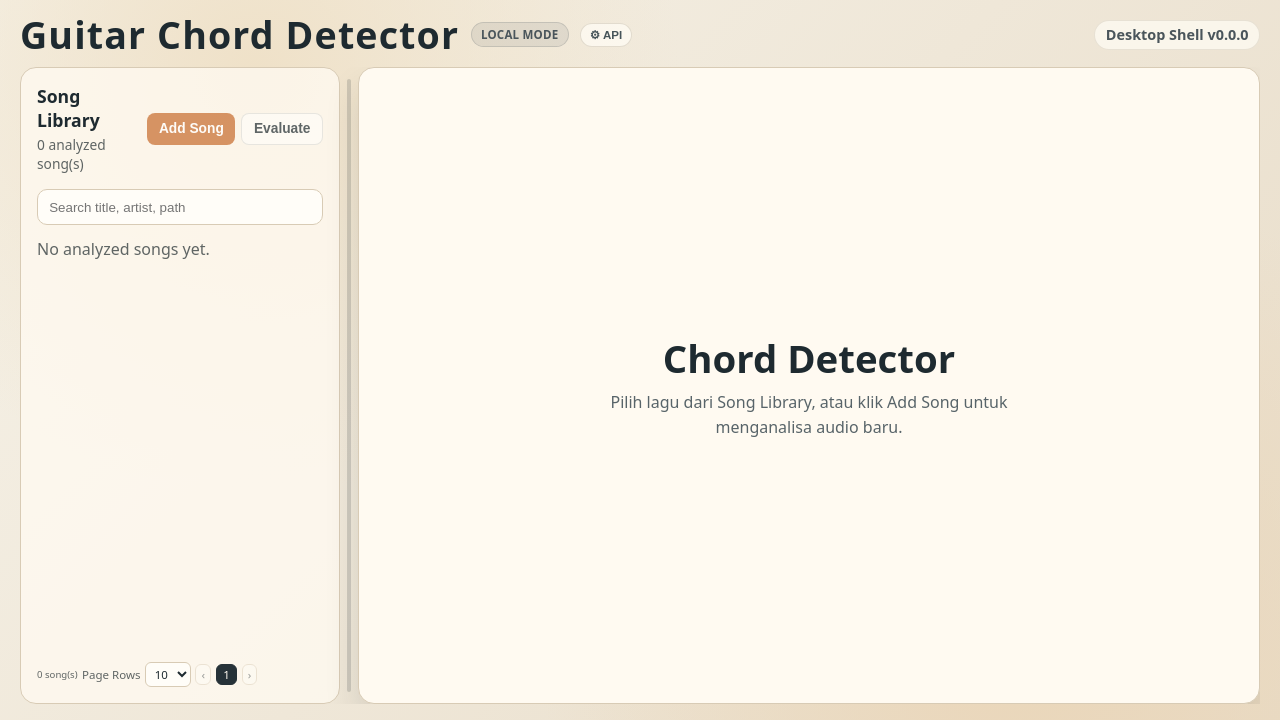
Scenario: App › shows selected filename after bridge returns selection
Click the button "Add Song" at (191, 129), box [147,113,235,145]
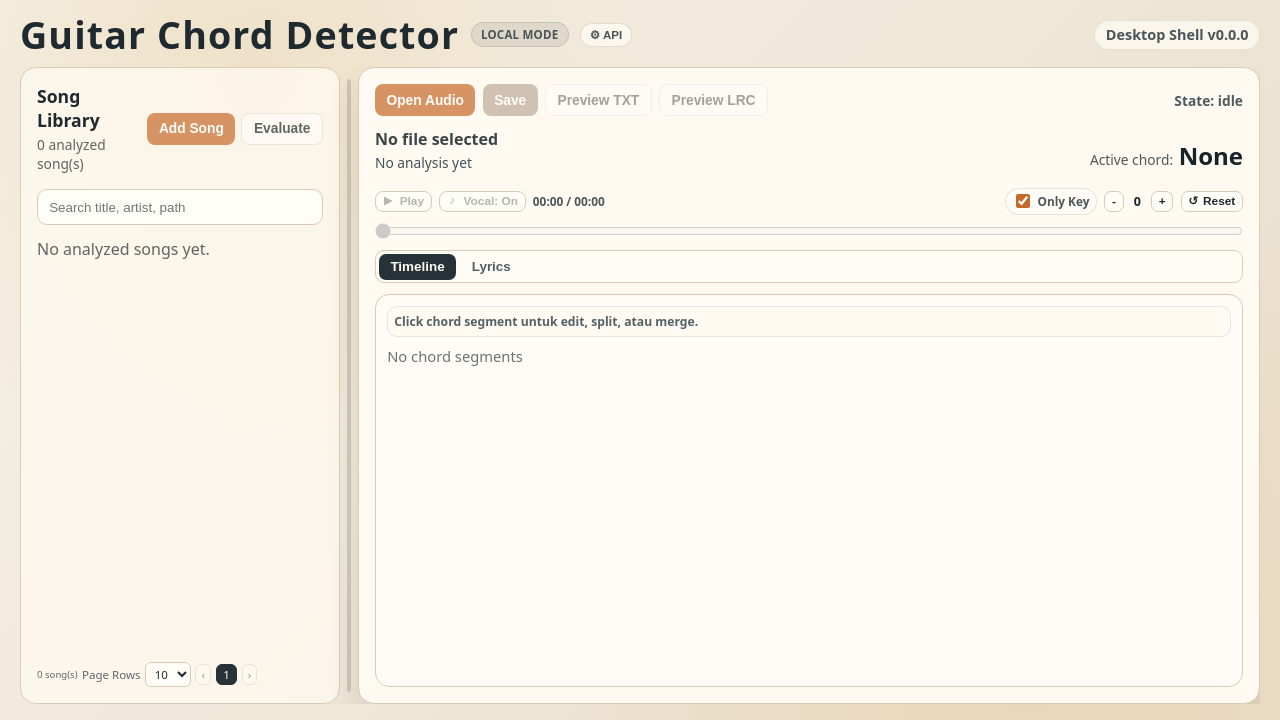
Expected: the field with placeholder "Contoh: SR Banyak Cerita" is not shown
Click the button "Open Audio" at (425, 100), box [375,84,475,116]
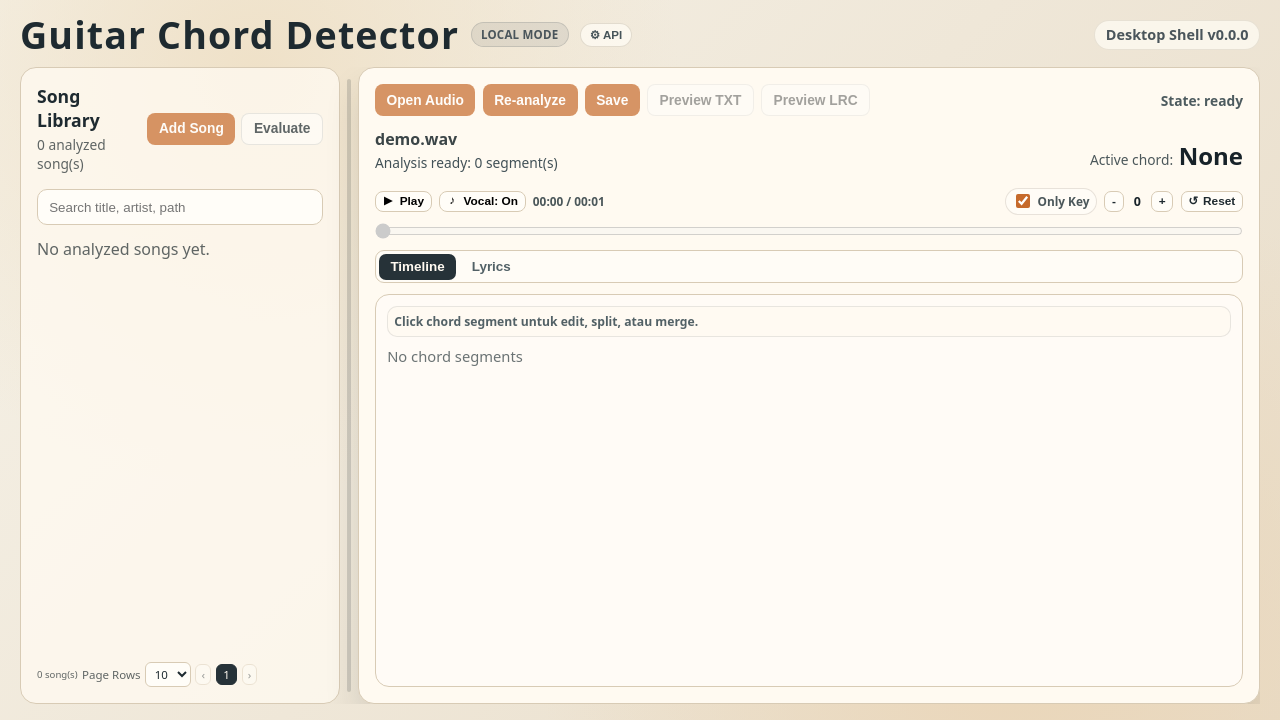
Expected: the text "demo.wav" is shown, [375,128,457,150]
Expected: the text "State: ready" is shown, [1161,90,1243,110]
Expected: the text "Analysis ready: 0 segment(s)" is shown, [375,153,558,172]
Click the button "Save" at (612, 100), box [585,84,640,116]
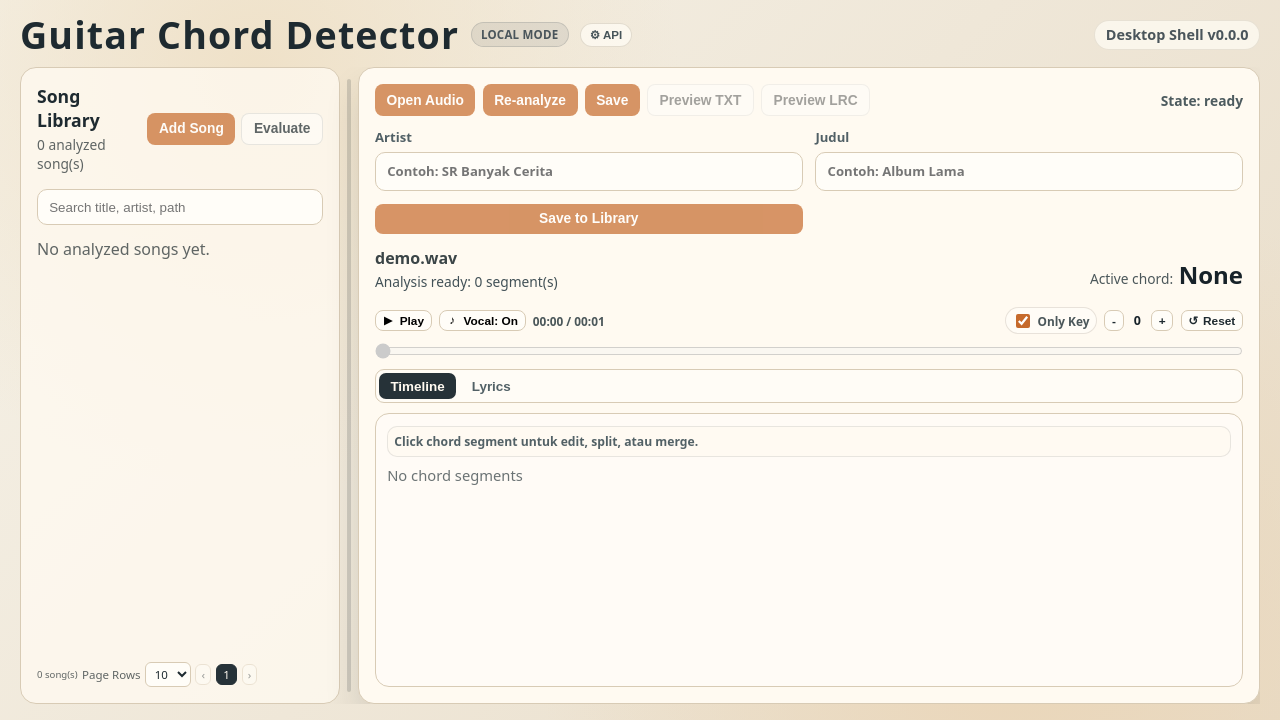
Type "Demo Artist" into the field with placeholder "Contoh: SR Banyak Cerita" at (589, 171), box [375,152,803,191]
Type "Demo Title" into the field with placeholder "Contoh: Album Lama" at (1029, 171), box [815,152,1243,191]
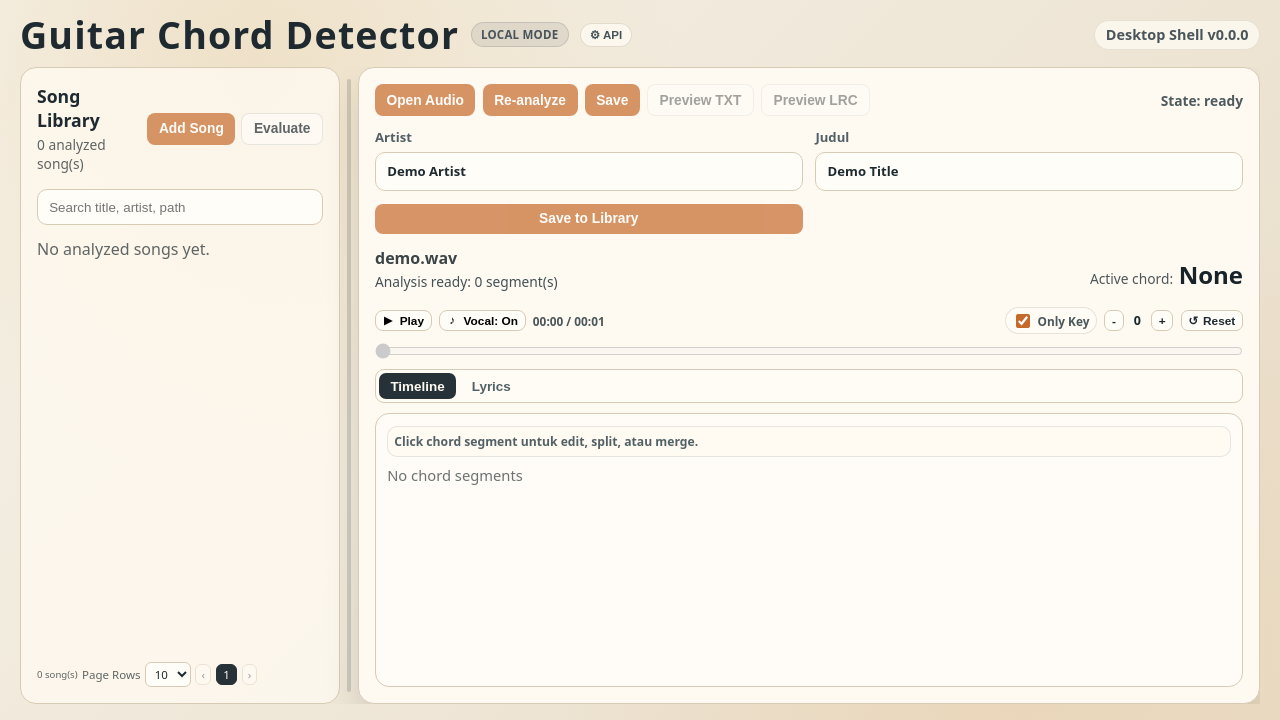
Click the button "Save to Library" at (589, 219), box [375,204,803,234]
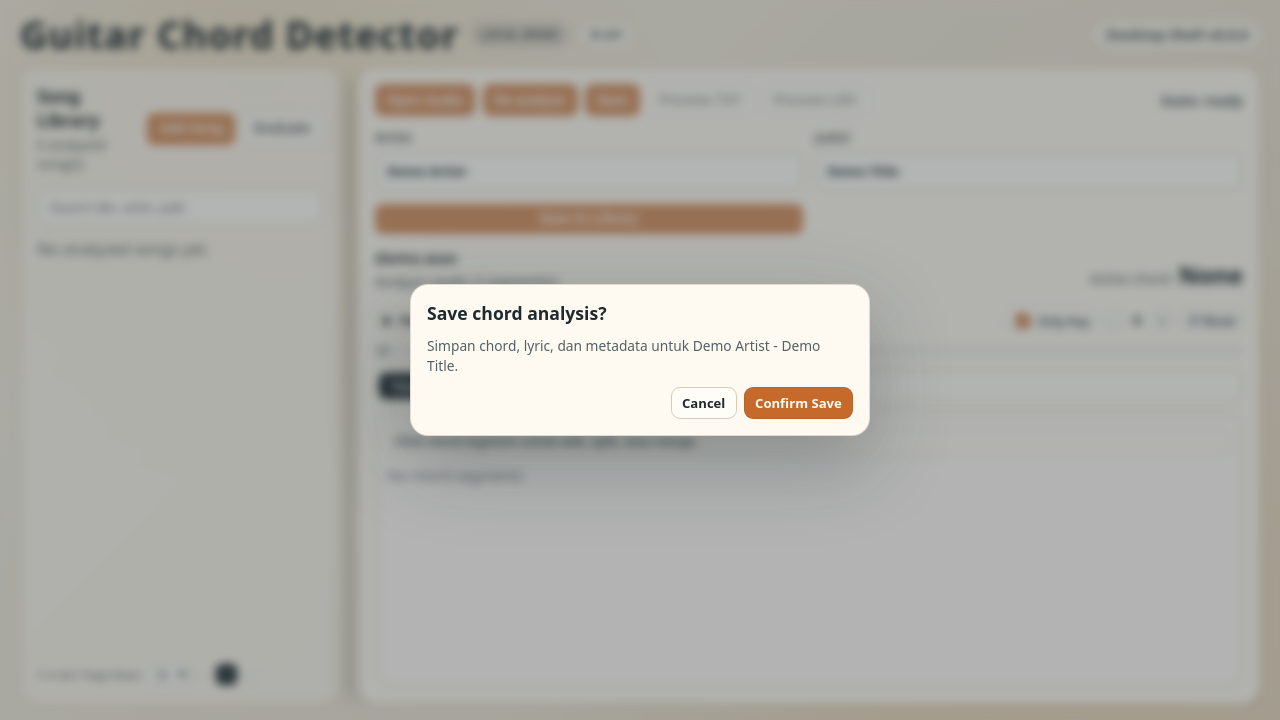
Expected: the text "Save chord analysis?" is shown, [427,301,607,325]
Click the button "Confirm Save" at (798, 403), box [744,387,853,419]
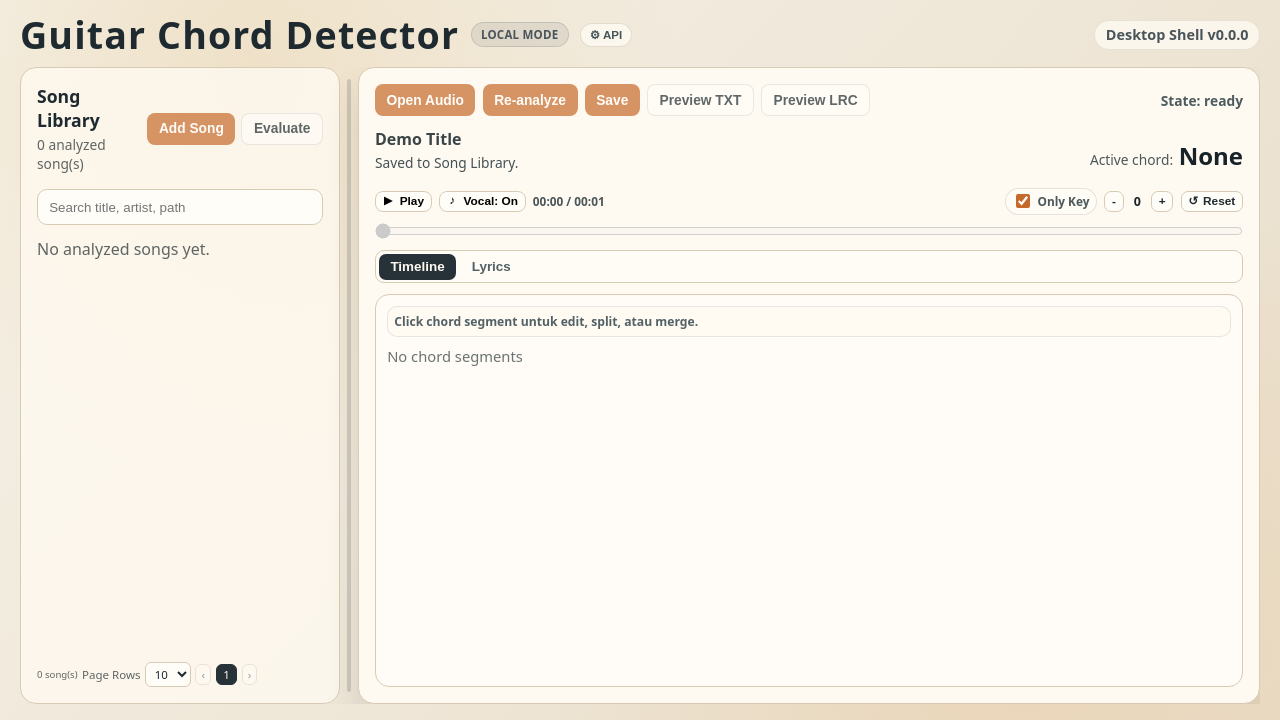
Expected: the text "Saved to Song Library." is shown, [375,153,518,172]
